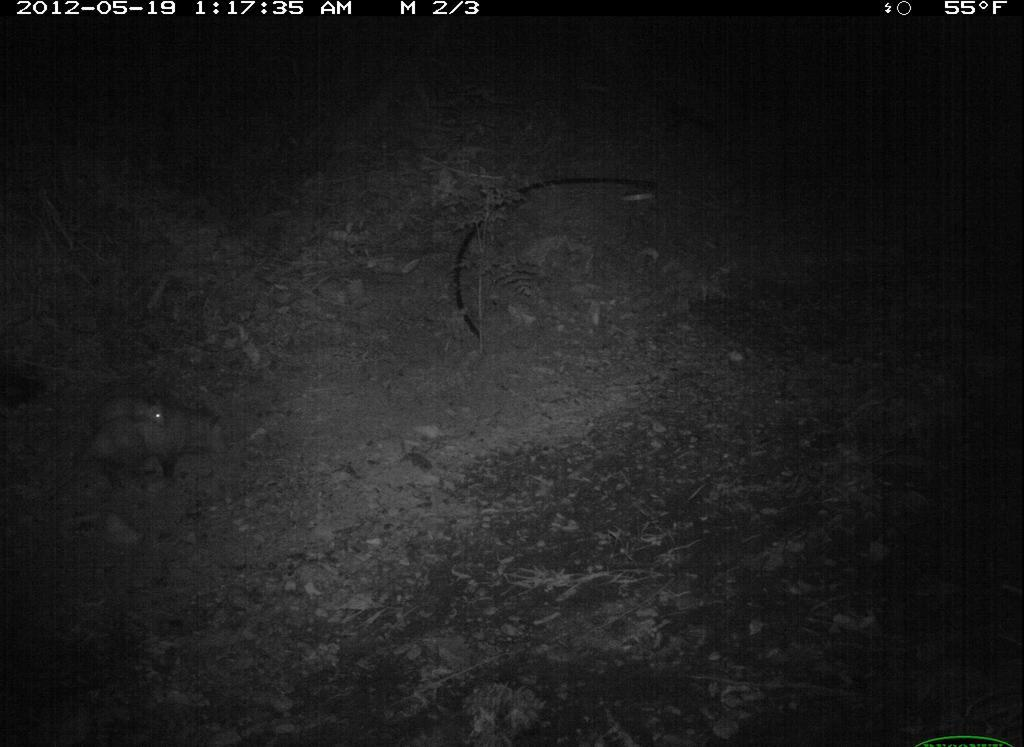opossum: (76, 361, 245, 503)
